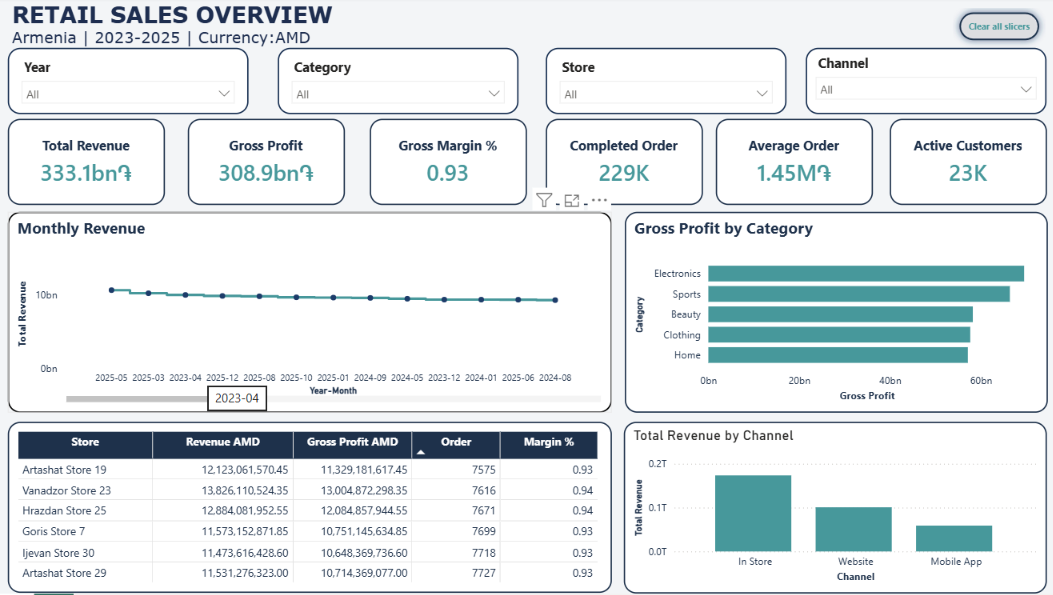

Layout of this report page (visuals, bound fields, positions):
{"tool":"powerbi","page":{"name":"Page 1","canvas":[1280,720],"ordinal":0},"visuals":[{"type":"textbox","box":[13.7,0,1266.6,70],"z":0},{"type":"slicer","title":"Year","fields":{"Values":["DimDate.Year"]},"box":[13.8,61.6,290,80.1],"z":1000},{"type":"slicer","title":"Year","fields":{"Values":["Products.category"]},"box":[339,61.5,290,80.1],"z":2000},{"type":"slicer","title":"Year","fields":{"Values":["Stores.store_name"]},"box":[662.3,61.5,290,80.1],"z":3000},{"type":"slicer","title":"Year","fields":{"Values":["Retail_Sales.channel"]},"box":[976,61.5,290,80.1],"z":4000},{"type":"cardVisual","fields":{"Data":["KeyMeasures.Total Revenue"]},"box":[13.3,147.4,189.4,103.8],"z":5000},{"type":"cardVisual","fields":{"Data":["KeyMeasures.Gross Profit"]},"box":[230.4,147.4,189.4,103.8],"z":6000},{"type":"cardVisual","fields":{"Data":["KeyMeasures.Gross Margin %"]},"box":[450,147.4,189.4,103.8],"z":7000},{"type":"cardVisual","fields":{"Data":["KeyMeasures.Completed Orders"]},"box":[662.3,147.4,189.4,103.8],"z":8000},{"type":"cardVisual","fields":{"Data":["KeyMeasures.Average Order Value"]},"box":[867.4,147.4,189.4,103.8],"z":9000},{"type":"cardVisual","fields":{"Data":["KeyMeasures.Active Customers"]},"box":[1077.4,147.4,189.4,103.8],"z":10000},{"type":"lineChart","title":"Monthly Revenue","fields":{"Y":["KeyMeasures.Total Revenue"],"Category":["DimDate.Year-Month"]},"box":[12.8,259.5,728.5,242.4],"z":10001},{"type":"barChart","title":"Gross Profit by Category","fields":{"Y":["KeyMeasures.Gross Profit"],"Category":["Products.category"]},"box":[757.1,259.5,510.4,242.4],"z":10002},{"type":"tableEx","fields":{"Values":["Stores.store_name","KeyMeasures.Total Revenue","KeyMeasures.Gross Profit","KeyMeasures.Completed Order","KeyMeasures.Gross Margin %"]},"box":[12.8,513.3,728.5,206.7],"z":10003},{"type":"columnChart","fields":{"Y":["KeyMeasures.Total Revenue"],"Category":["Retail_Sales.channel"]},"box":[757,513,510,207],"z":10004},{"type":"actionButton","box":[1153.9,10.6,112.2,49.6],"z":10006}]}

Visuals, with their boxes in screenshot pixels (x1, y1, x2, y2), scaled from the page's 1280x720 canvas onto the 1053x595 screenshot:
textbox: select_region(11, 0, 1052, 58)
"Year" slicer: select_region(11, 51, 250, 117)
"Year" slicer: select_region(279, 51, 517, 117)
"Year" slicer: select_region(545, 51, 783, 117)
"Year" slicer: select_region(803, 51, 1041, 117)
cardVisual - KeyMeasures.Total Revenue: select_region(11, 122, 167, 208)
cardVisual - KeyMeasures.Gross Profit: select_region(190, 122, 345, 208)
cardVisual - KeyMeasures.Gross Margin %: select_region(370, 122, 526, 208)
cardVisual - KeyMeasures.Completed Orders: select_region(545, 122, 701, 208)
cardVisual - KeyMeasures.Average Order Value: select_region(714, 122, 869, 208)
cardVisual - KeyMeasures.Active Customers: select_region(886, 122, 1042, 208)
"Monthly Revenue" lineChart: select_region(11, 214, 610, 415)
"Gross Profit by Category" barChart: select_region(623, 214, 1043, 415)
tableEx - Stores.store_name x KeyMeasures.Total Revenue: select_region(11, 424, 610, 594)
columnChart - KeyMeasures.Total Revenue x Retail_Sales.channel: select_region(623, 424, 1042, 594)
actionButton: select_region(949, 9, 1042, 50)
